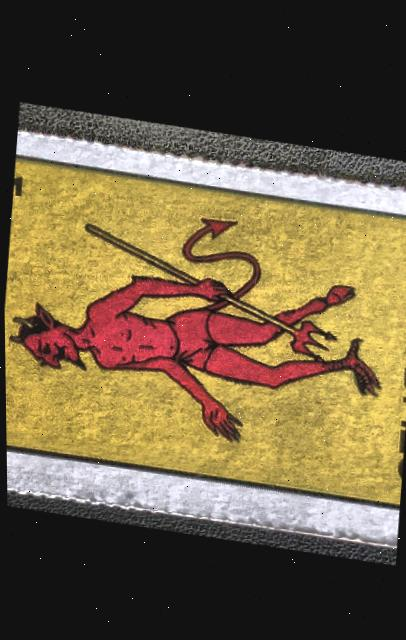El Diablito: (2, 143, 406, 532)
